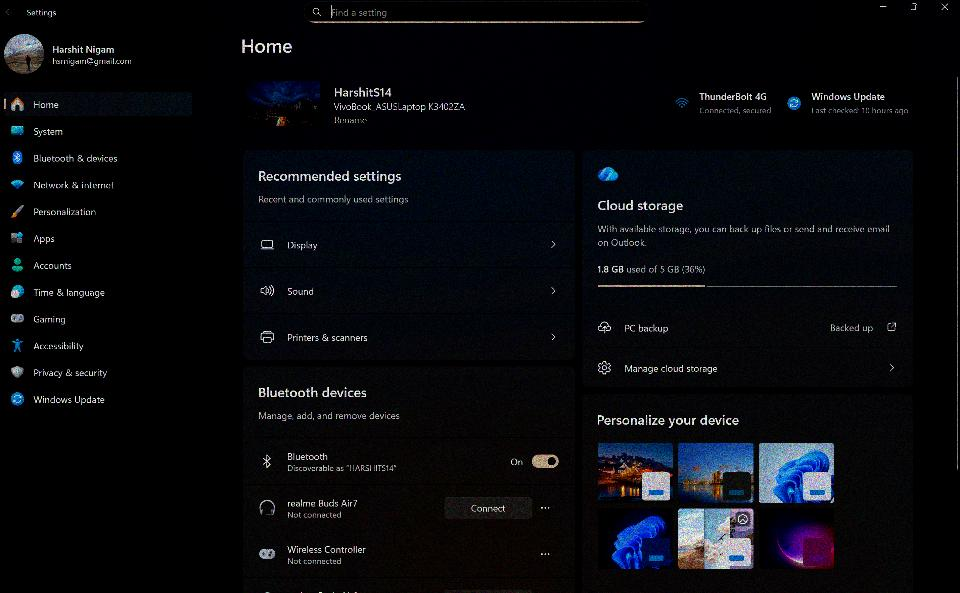close_button: (936, 2, 953, 13)
maximize_button: (903, 1, 924, 14)
minimize_button: (875, 2, 894, 14)
